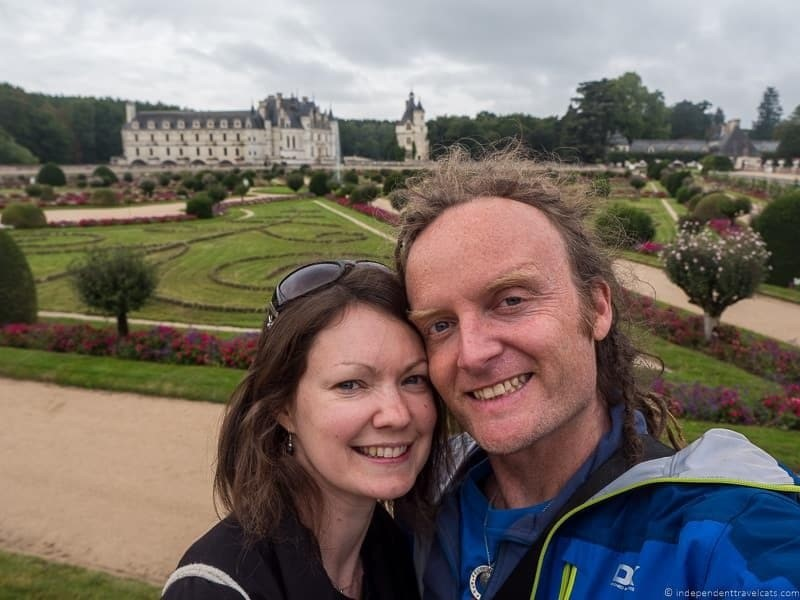face_no_mask: (398, 171, 611, 457), (269, 268, 436, 501)
